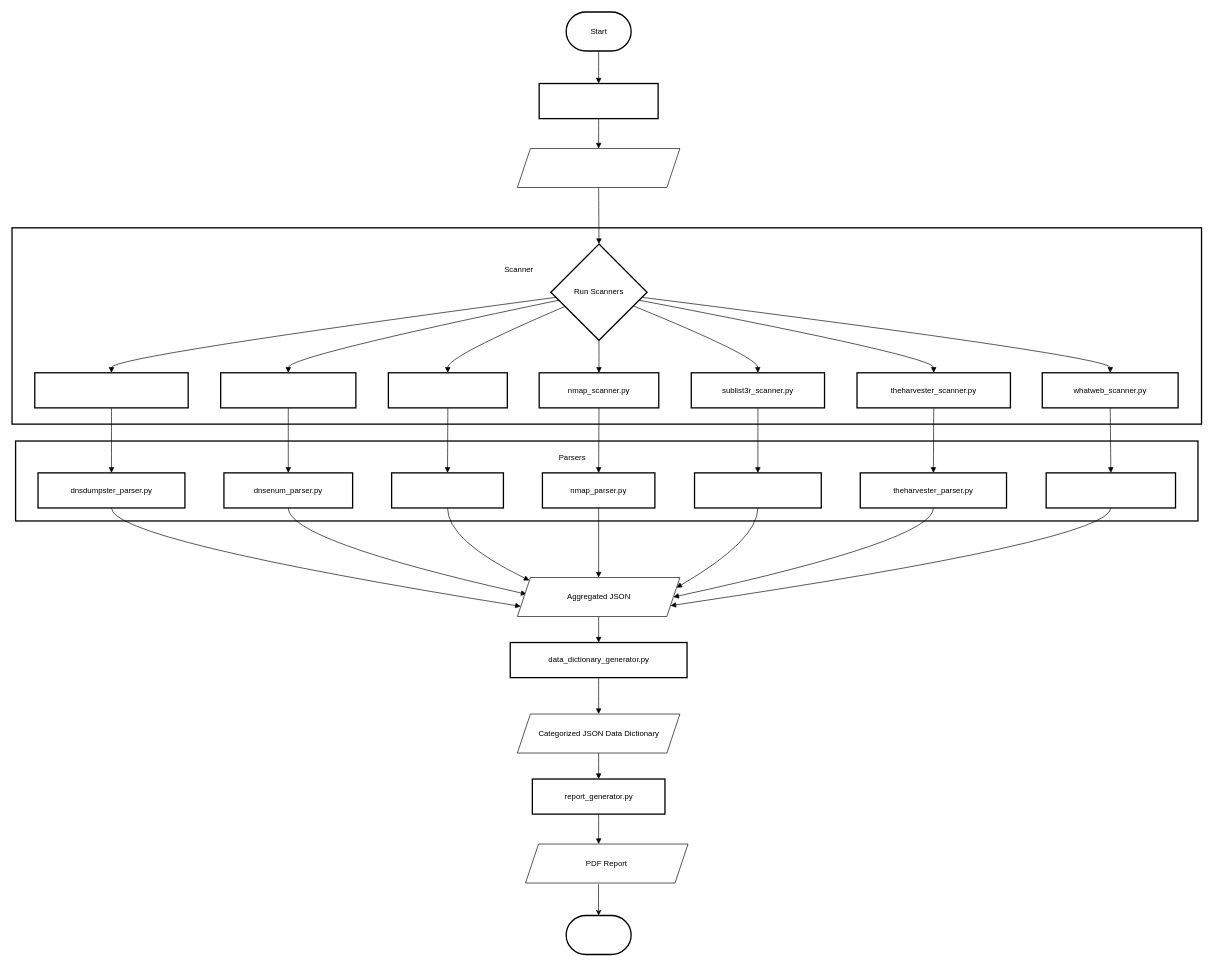
The diagram is 1213 pixels wide and 966 high, and some of its shapes have lost their labels. The shapes that lost their labels are listed below. From the top down, each one's centre as x and y in pixels, then its label:
At (598,101): "scanner.py".
At (598,168): "User Input: Author & Domain".
At (111,390): "dnsdumpster_scanner.py".
At (288,390): "dnsenum_scanner.py".
At (447,390): "httpx_scanner.py".
At (447,490): "httpx_parser.py".
At (758,490): "sublist3r_parser.py".
At (1110,490): "whatweb_parser.py".
At (598,935): "End".
